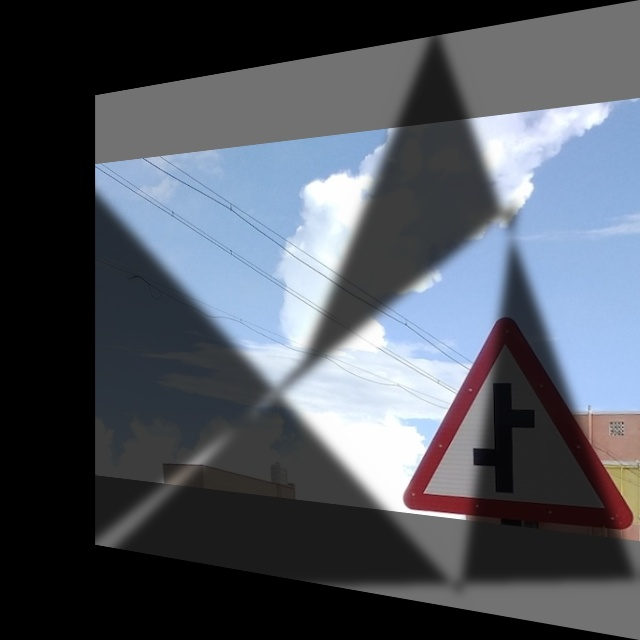Staggered_Intersection: (390, 318, 628, 527)
